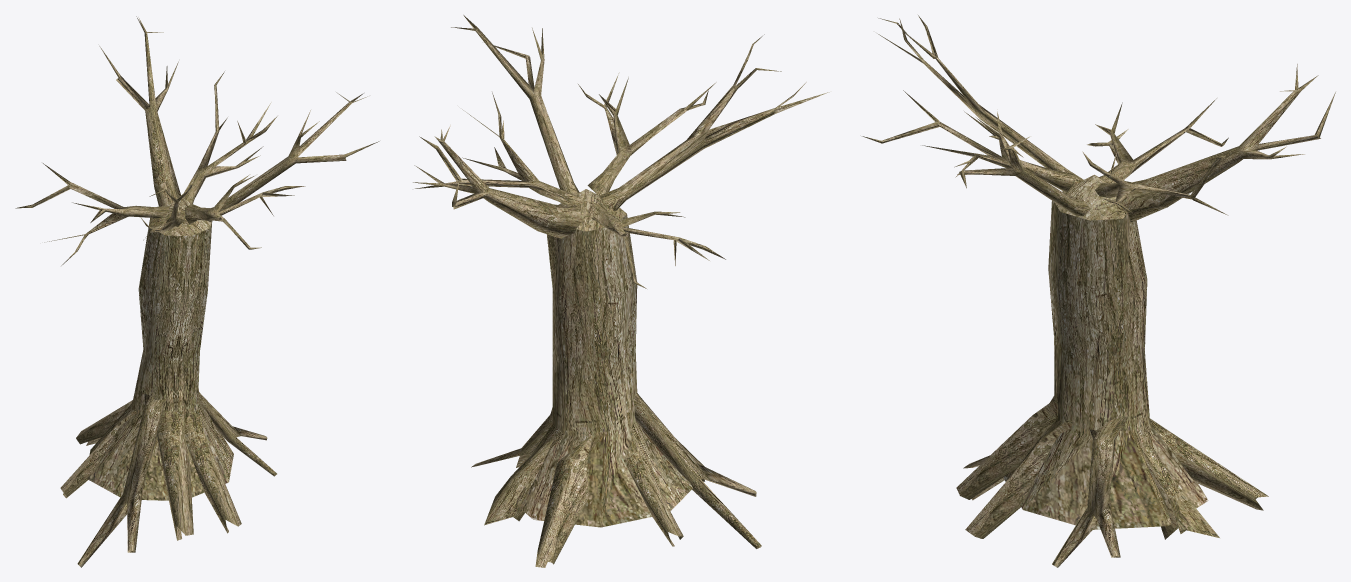
Rendered from tree_fig_trunk_b.dae.
The picture shows the model from 3 angles, left to right: view 1: azimuth 30°, elevation 25°; view 2: azimuth 150°, elevation 25°; view 3: azimuth 270°, elevation 25°; orthographic projection. The views are drawn at different scales.
Visible parts, largest first — view 1: Cylinder43-Pivot; view 2: Cylinder43-Pivot; view 3: Cylinder43-Pivot.
Part boxes in pixels (x1,y1,x2,y2): Cylinder43-Pivot: (15, 16, 379, 567); Cylinder43-Pivot: (413, 15, 829, 567); Cylinder43-Pivot: (862, 15, 1335, 567).
Bounding box in the file's own units: 11.92 × 14.12 × 17.01.
